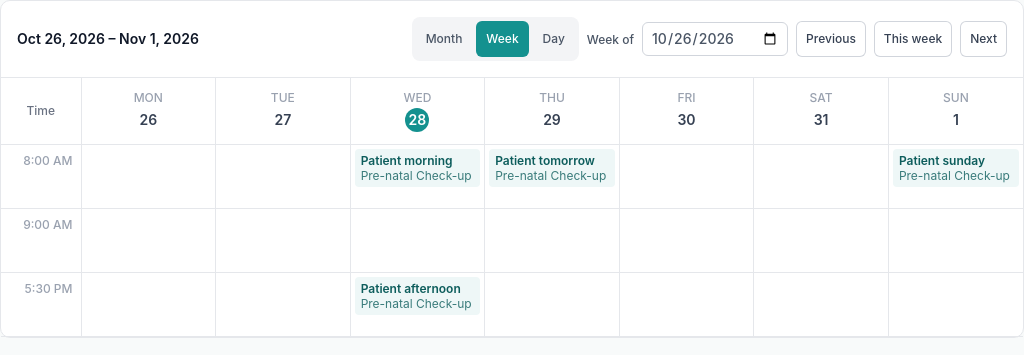
it: appointment calendar views › lets staff pick dates directly and shows empty days without unrelated hours
The image size is (1024, 355).
Step 1. Type "2026-11-10" into the date field labelled "Week of" → (715, 39), box top-left (642, 22), bottom-right (788, 56)
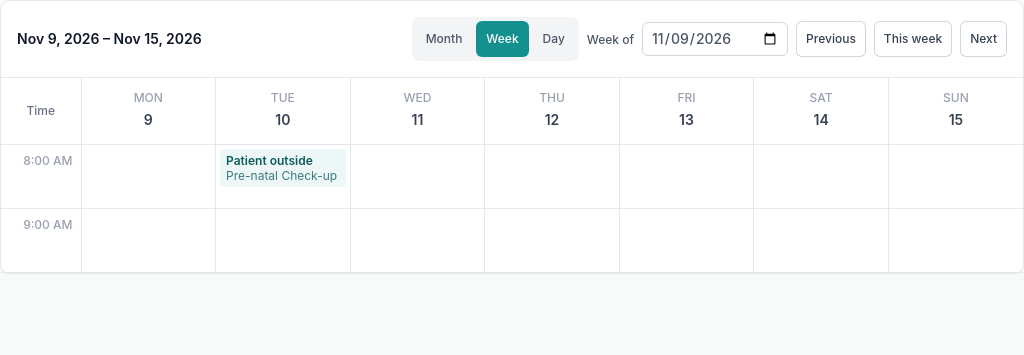
Result: the date field labelled "Week of" holds "2026-11-09" at top-left (642, 22), bottom-right (788, 56)
Step 2. Click the button "Day" → (554, 39), box top-left (533, 21), bottom-right (575, 57)
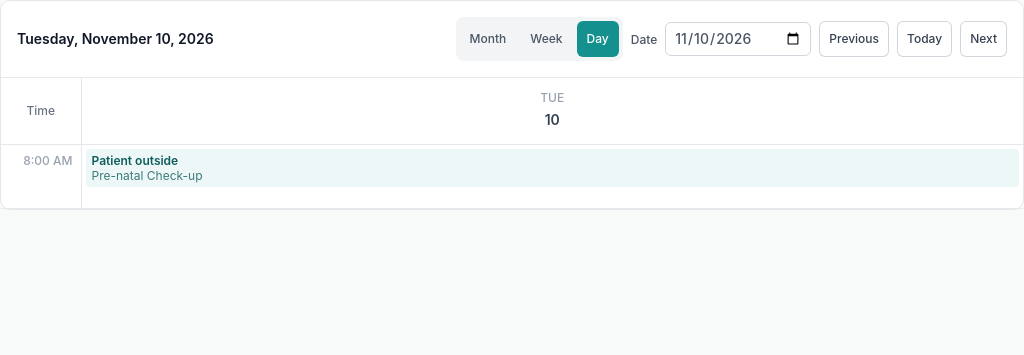
Result: the element showing "Time Tue 10 8:00 AM Patient outside Pre-natal Check-up" is shown at top-left (1, 78), bottom-right (1023, 209)
Step 3. Type "2026-11-11" into the date field labelled "Date" → (738, 39), box top-left (665, 22), bottom-right (811, 56)
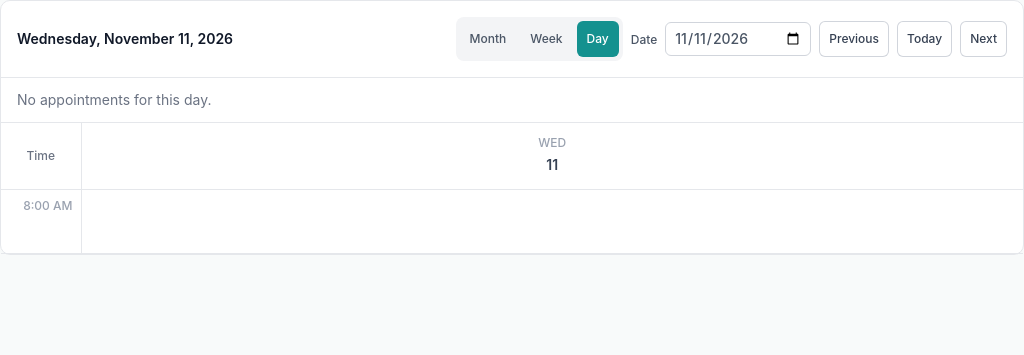
Result: the element showing "No appointments for this day. Time Wed 11 8:00 AM" is shown at top-left (1, 78), bottom-right (1023, 254)
Step 4. Click the button "Next" → (984, 39), box top-left (960, 21), bottom-right (1007, 57)
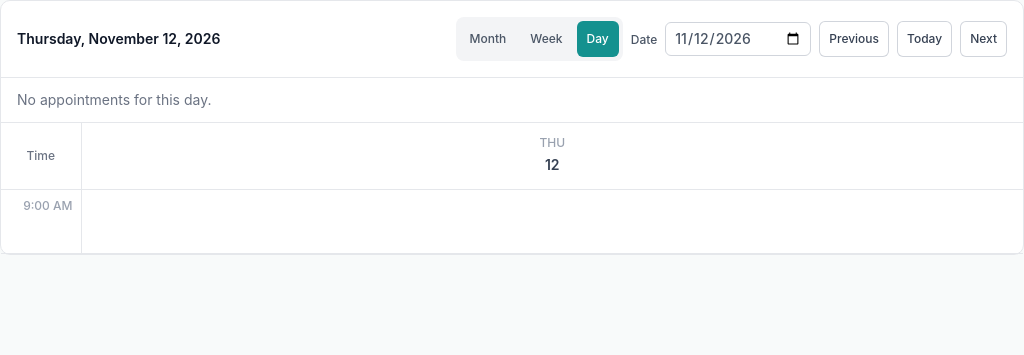
Step 5. Click the button "Next" → (984, 39), box top-left (960, 21), bottom-right (1007, 57)
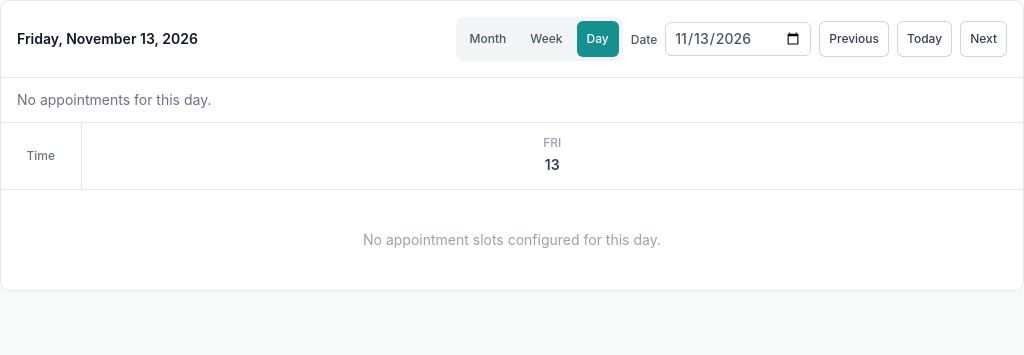
Expected: the column heading does not show "8:00 AM"
Result: the element named "Daily appointment calendar" shows "No appointment slots configured for this day." at top-left (1, 78), bottom-right (1023, 290)
